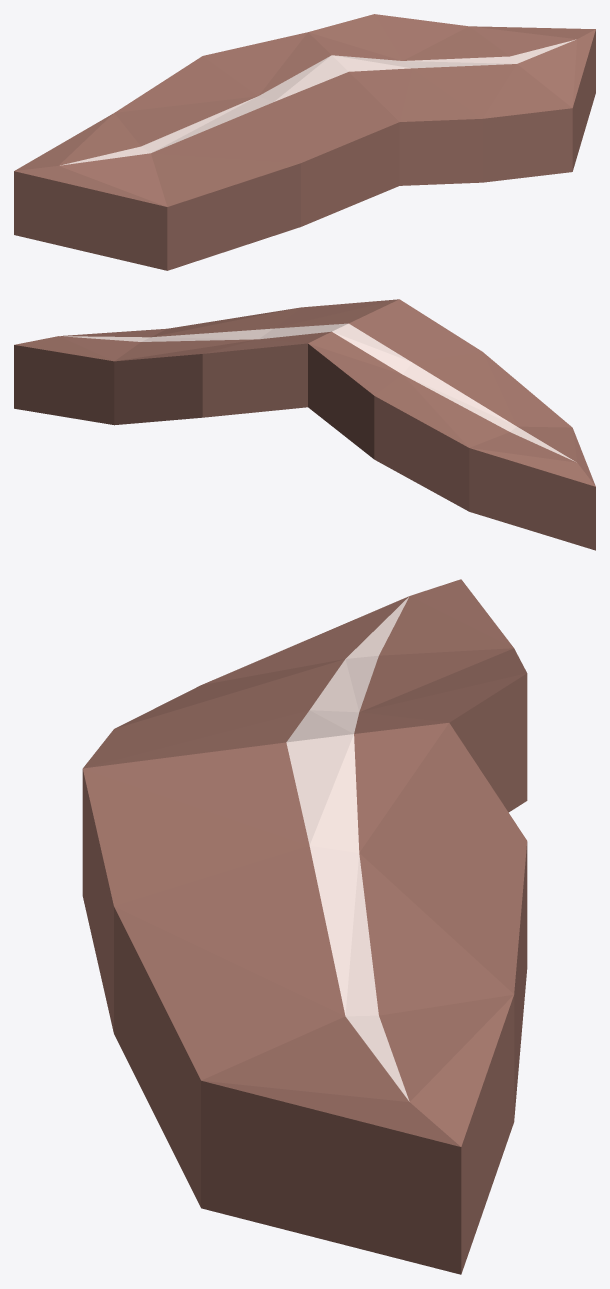
Rendered from Mouth 04.FBX.
The picture shows the model from 3 angles, top to bottom: view 1: azimuth 30°, elevation 25°; view 2: azimuth 150°, elevation 25°; view 3: azimuth 270°, elevation 25°; orthographic projection. The views are drawn at different scales.
Parts seen in each view (by area): view 1: Mouth 04; view 2: Mouth 04; view 3: Mouth 04.
Boxes of the visible parts, <box> form: Mouth 04: <box>14,14,595,270</box>; Mouth 04: <box>14,299,595,550</box>; Mouth 04: <box>82,579,527,1274</box>.
Size of the model in its own units: 7.84 by 2.59 by 1.85.
1 material, 1 textured.
